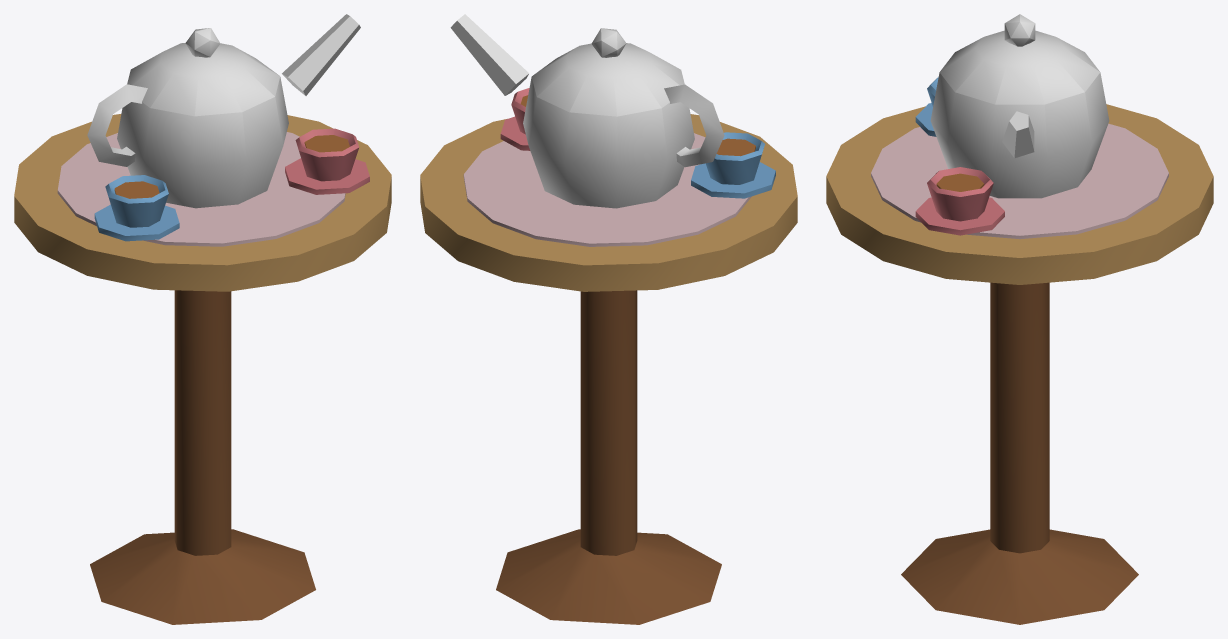
The model's file is morning_tea_set.glb.
3 renders of one model, left to right at view 1: azimuth 30°, elevation 25°; view 2: azimuth 150°, elevation 25°; view 3: azimuth 270°, elevation 25°, orthographic.
Visible parts, largest first — view 1: furniture-morning_tea_set; view 2: furniture-morning_tea_set; view 3: furniture-morning_tea_set.
Boxes of the visible parts, x1,y1,x2,y2 form: furniture-morning_tea_set: [14, 14, 391, 624]; furniture-morning_tea_set: [420, 14, 797, 624]; furniture-morning_tea_set: [826, 14, 1213, 624].
Bounding box in the file's own units: 0.52 × 0.8244 × 0.52.
